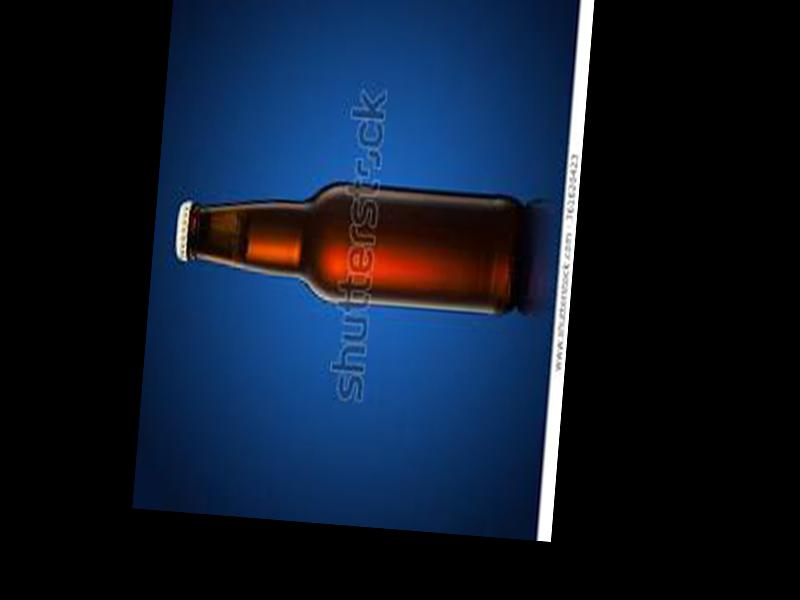Beer: (170, 168, 525, 317)
